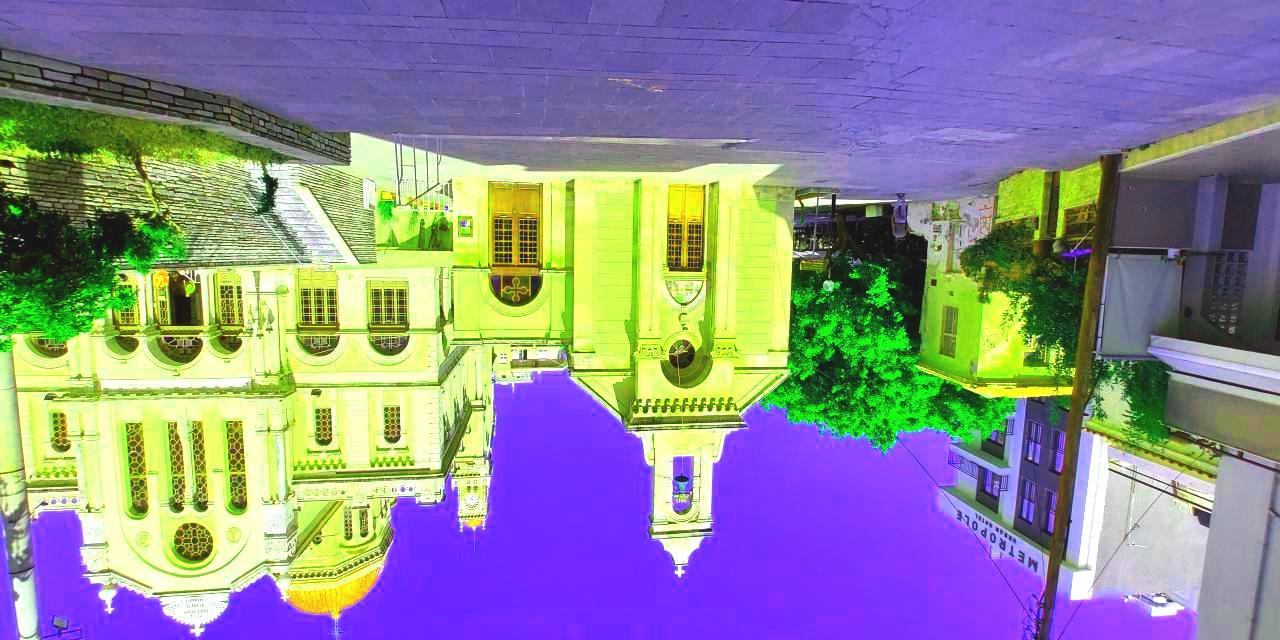Agios Minas: (1, 188, 797, 640)
